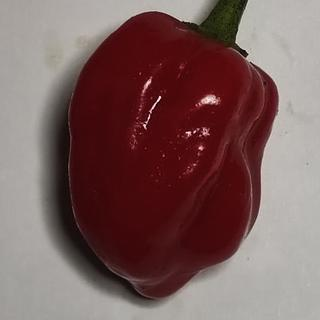Grade-A: (57, 3, 284, 303)
